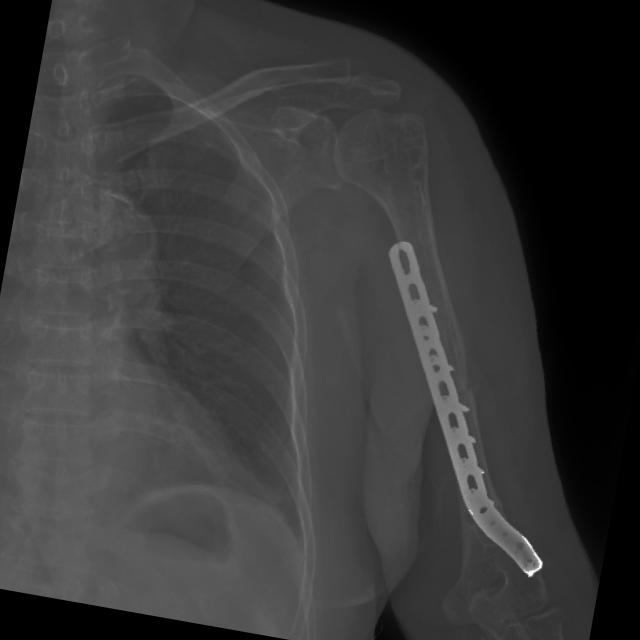humerus fracture: (450, 369, 488, 414)
